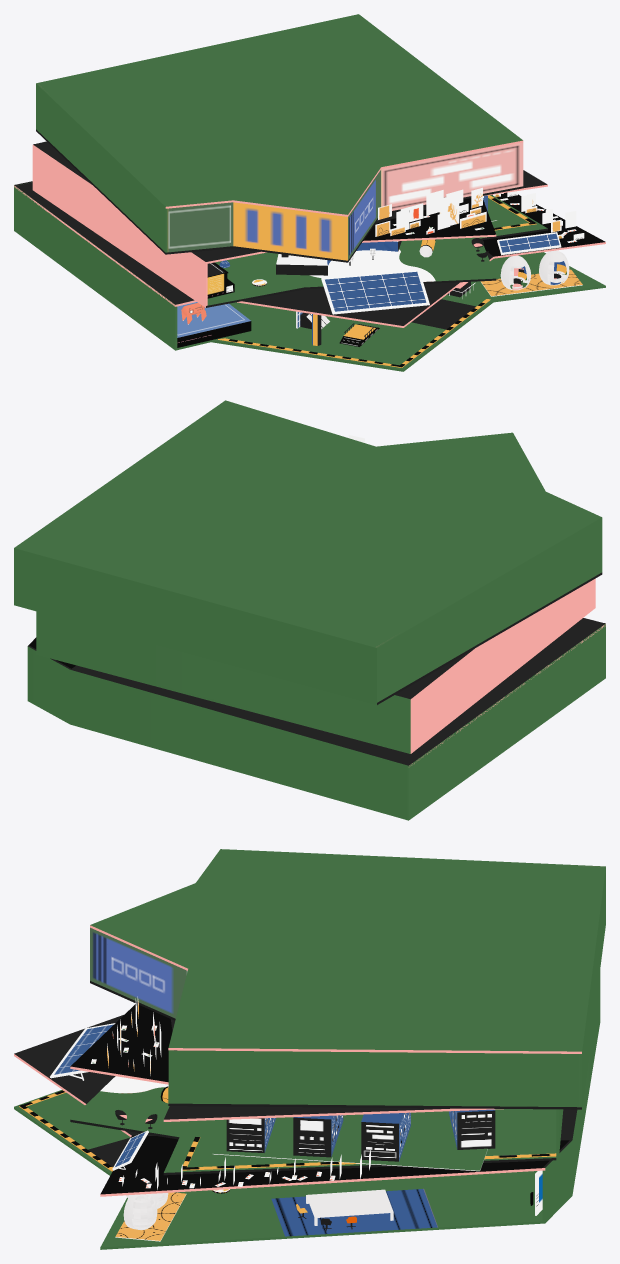
Rendered from 谷歌 newegg.fbx.
3 views of the same model, one above another, from view 1: azimuth 30°, elevation 25°; view 2: azimuth 150°, elevation 25°; view 3: azimuth 270°, elevation 25° (orthographic). The views are drawn at different scales.
Visible parts, largest first — view 1: 挤压_2_2, 平面_3, 平面_1, 太阳能_大, 平面_3_2, CC, 挤压, 平面_2_2, 挤压_2, 平面_2, 太阳能_小, 立方体_4_2 (+5 smaller); view 2: 挤压_2_2; view 3: 挤压_2_2, 平面_4, 立方体_4_3, 平面_2_2, 平面, 立方体_2_8, 立方体_2_3, 立方体_1_7, jixiang, 立方体_7_2, 立方体_4_2, 太阳能_大 (+5 smaller).
Boxes of the visible parts, x1,y1,x2,y2 form: 挤压_2_2: [14, 14, 605, 371]; 平面_3: [381, 142, 523, 210]; 平面_1: [233, 202, 347, 260]; 太阳能_大: [321, 270, 429, 314]; 平面_3_2: [167, 202, 233, 252]; CC: [177, 302, 251, 347]; 挤压: [310, 249, 435, 281]; 平面_2_2: [348, 169, 381, 260]; 挤压_2: [276, 241, 401, 275]; 平面_2: [411, 299, 475, 329]; 太阳能_小: [497, 232, 561, 255]; 立方体_4_2: [480, 269, 582, 296]; 挤压_2_2: [14, 400, 605, 820]; 挤压_2_2: [14, 849, 605, 1249]; 平面_4: [168, 1050, 579, 1106]; 立方体_4_3: [212, 1117, 487, 1171]; 平面_2_2: [90, 927, 187, 1018]; 平面: [271, 1188, 437, 1236]; 立方体_2_8: [361, 1112, 410, 1161]; 立方体_2_3: [306, 1189, 393, 1225]; 立方体_1_7: [293, 1115, 343, 1157]; jixiang: [449, 1109, 495, 1149]; 立方体_7_2: [226, 1118, 275, 1152]; 立方体_4_2: [115, 1192, 186, 1241]; 太阳能_大: [50, 1023, 115, 1080].
Bounding box in the file's own units: 3121 × 1068 × 3379.
